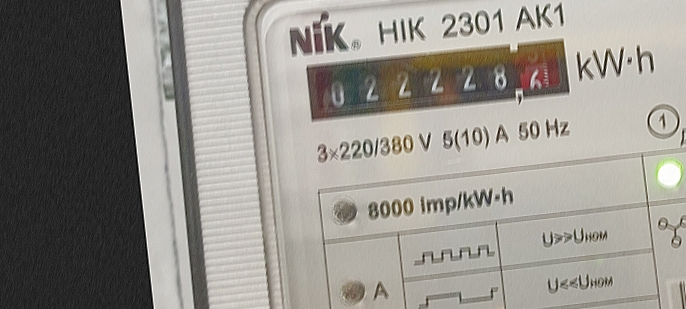0: (329, 78, 348, 108)
2: (361, 72, 383, 103), (460, 62, 480, 92), (395, 68, 414, 99), (427, 65, 447, 94)
5: (525, 43, 543, 65)
6: (527, 66, 545, 89)
8: (492, 61, 510, 91)
screen: (298, 26, 582, 130)
